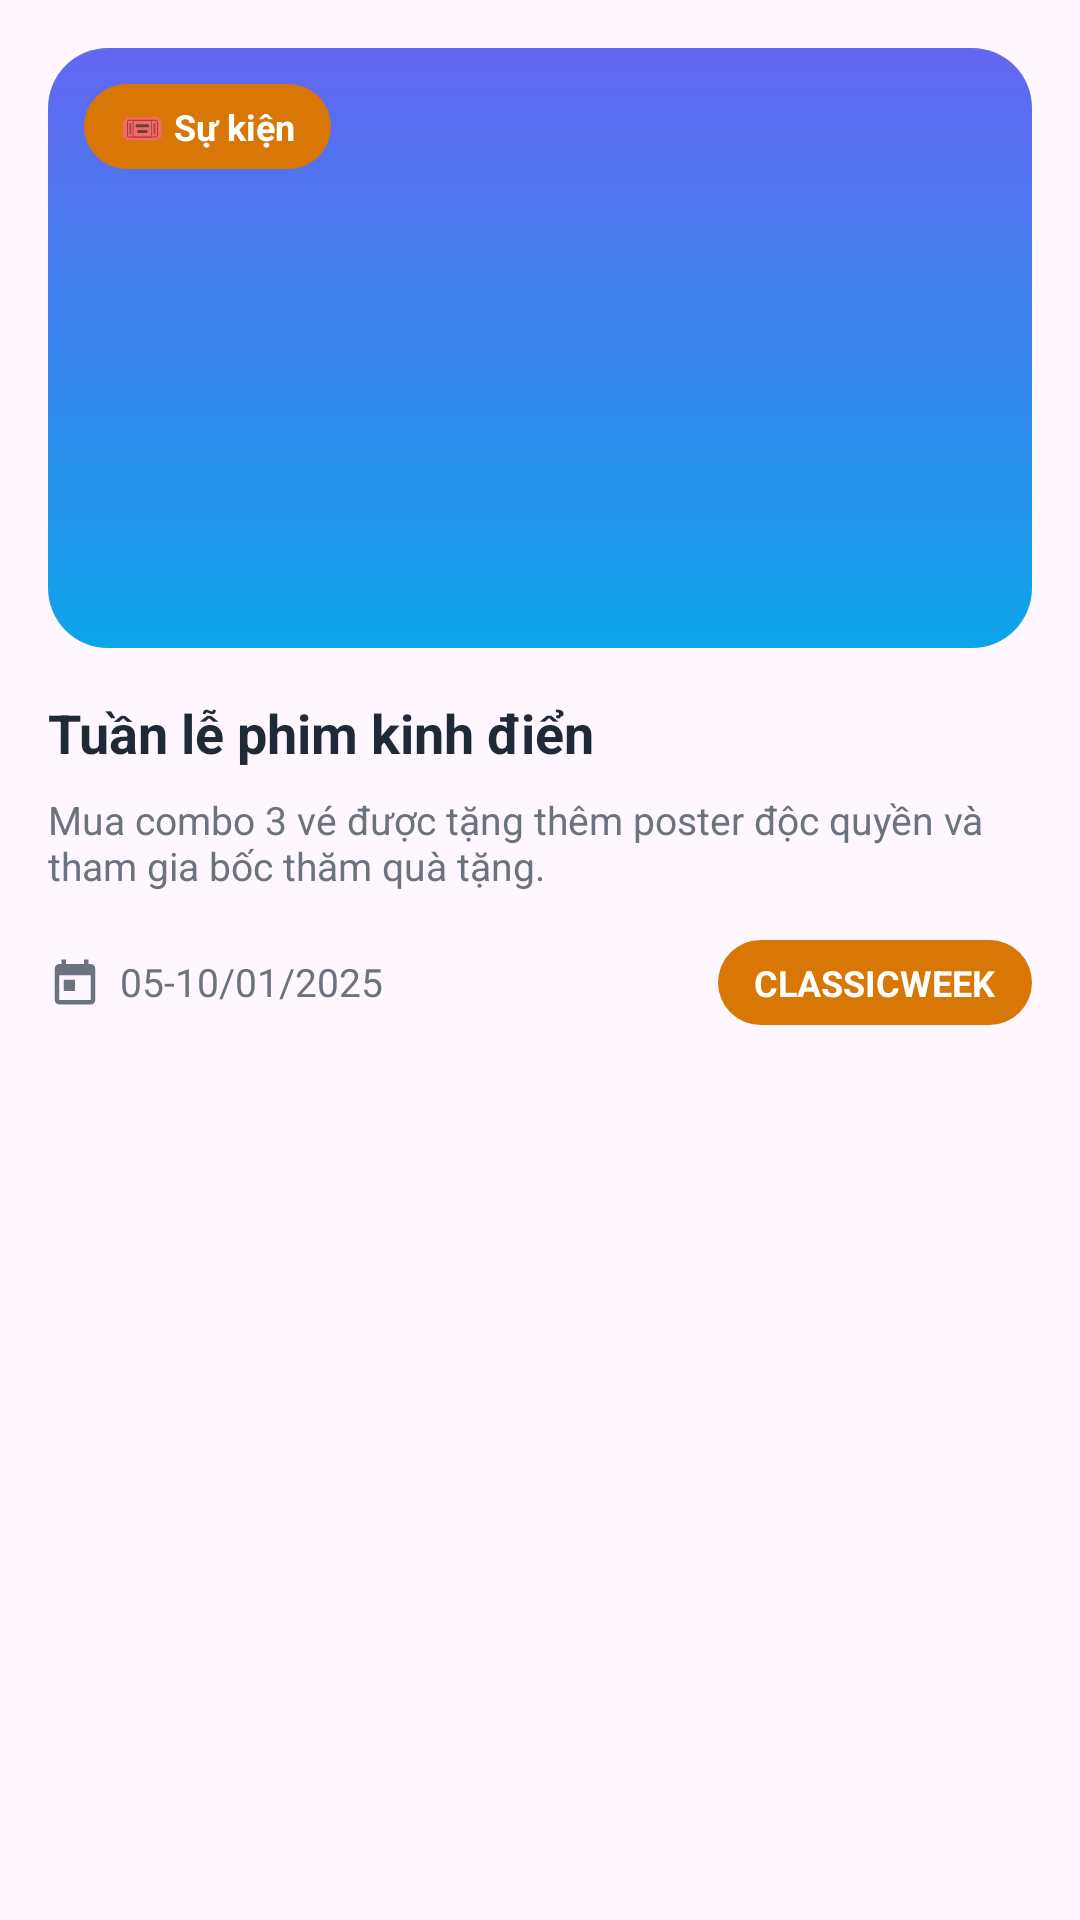

Screen size 1080*1920. Icon name, then its center in pixels as [x,y]:
calendar: [75,982]
